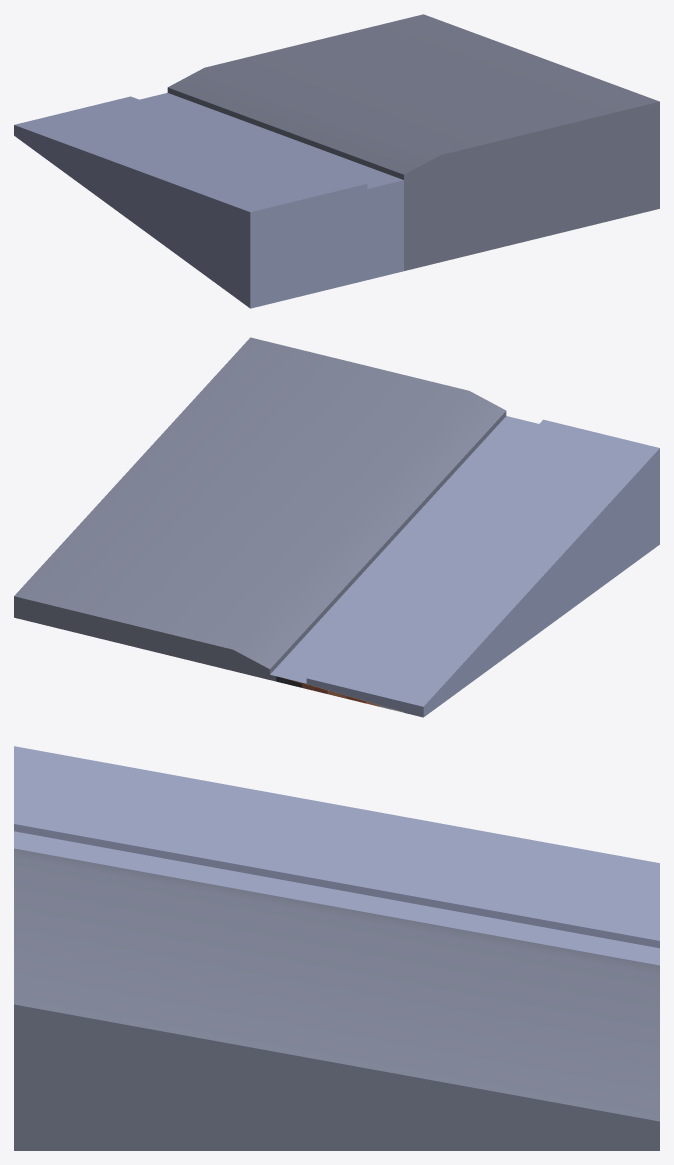
Rendered from road-edge-slope.glb.
3 renders of one model, top to bottom at view 1: azimuth 30°, elevation 25°; view 2: azimuth 150°, elevation 25°; view 3: azimuth 270°, elevation 25°, orthographic. The views are drawn at different scales.
Parts seen in each view (by area): view 1: road-edge-slope; view 2: road-edge-slope; view 3: road-edge-slope.
Part boxes in pixels (x1,y1,x2,y2): road-edge-slope: (14, 14, 659, 308); road-edge-slope: (14, 337, 659, 717); road-edge-slope: (14, 746, 659, 1150).
Bounding box in the file's own units: 1 × 0.25 × 1.
1 material, 1 textured.
